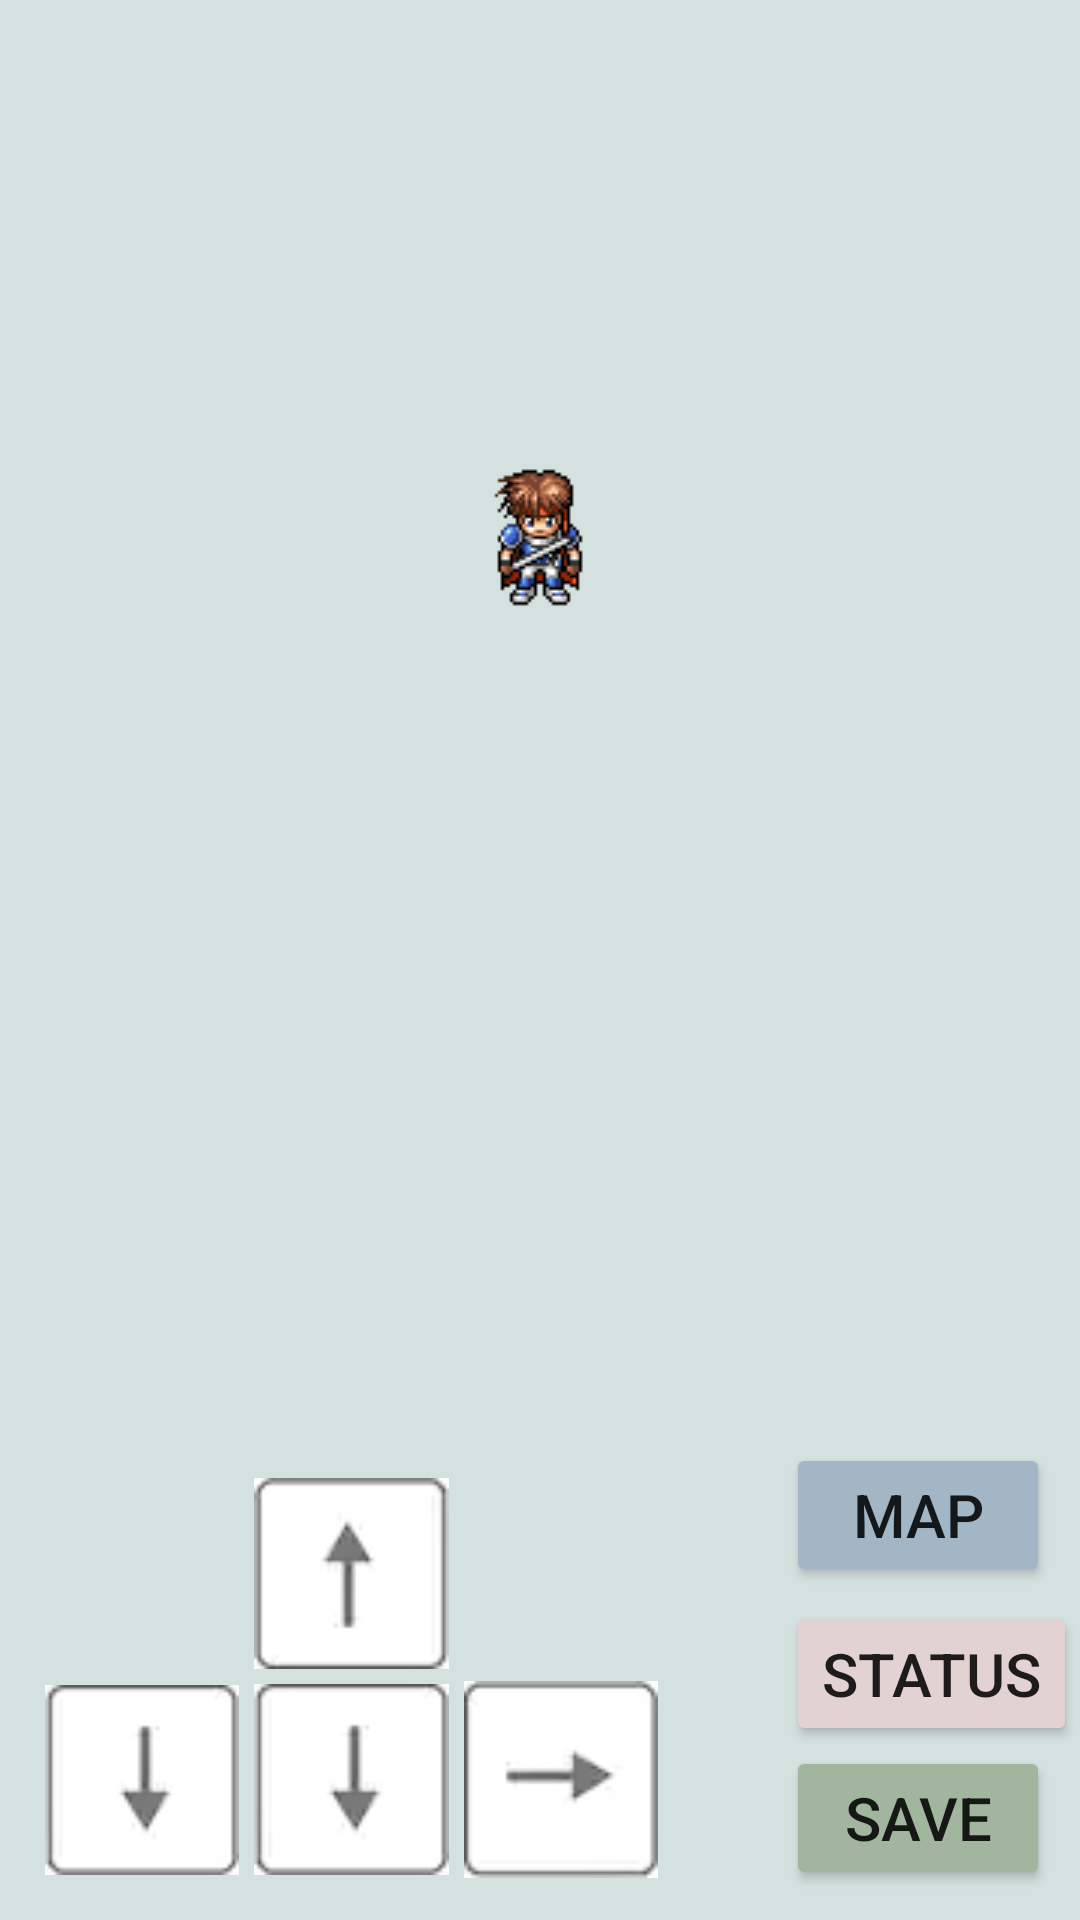

Icon click points for this 1080x1920 phone screenshot, format [x,y]:
bottom: [351,1779], [142,1780]
hero bottom: [538,537]
right: [561,1779]
top: [351,1573]
